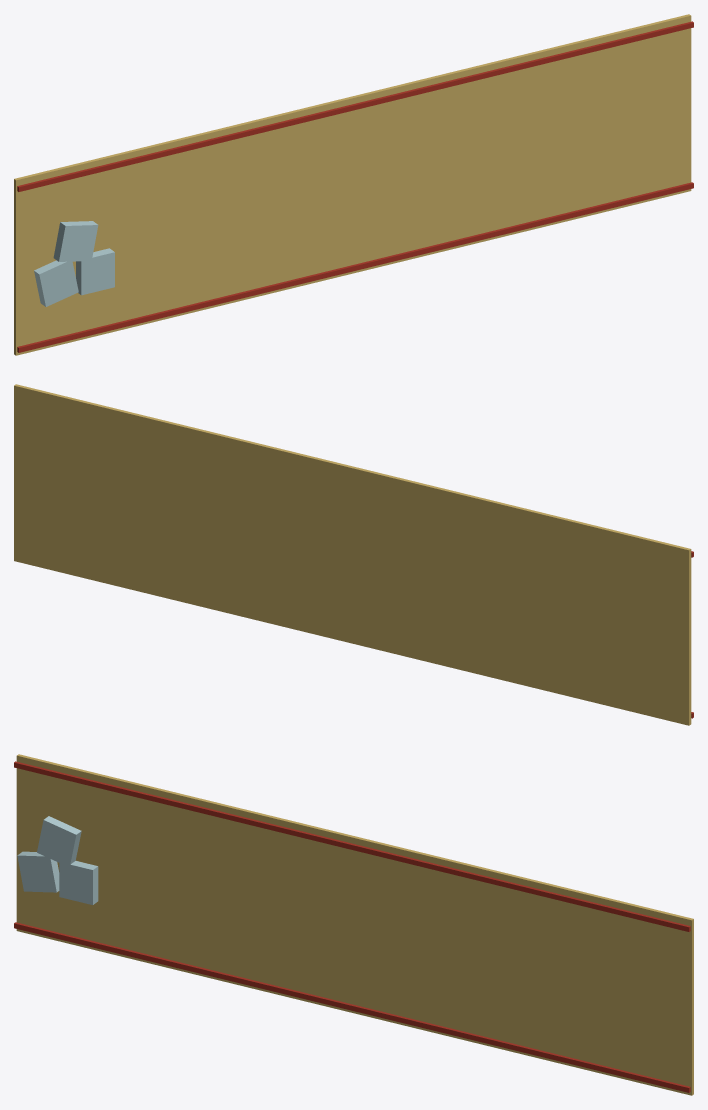
The model's file is bang_tap_hoa_bay_hien_32.glb.
3 views of the same model, one above another, from view 1: azimuth 30°, elevation 25°; view 2: azimuth 150°, elevation 25°; view 3: azimuth 330°, elevation 25° (orthographic).
Visible parts, largest first — view 1: bang_tap_hoa_bay_hien_32; view 2: bang_tap_hoa_bay_hien_32; view 3: bang_tap_hoa_bay_hien_32.
Boxes of the visible parts, x1,y1,x2,y2 form: bang_tap_hoa_bay_hien_32: (14, 14, 693, 355); bang_tap_hoa_bay_hien_32: (14, 384, 693, 725); bang_tap_hoa_bay_hien_32: (14, 754, 693, 1095).
Size of the model in its own units: 2.9 by 0.72 by 0.1.
